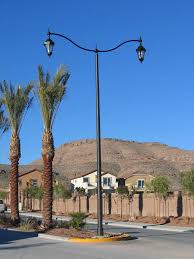light_pole: (94, 48, 107, 240)
